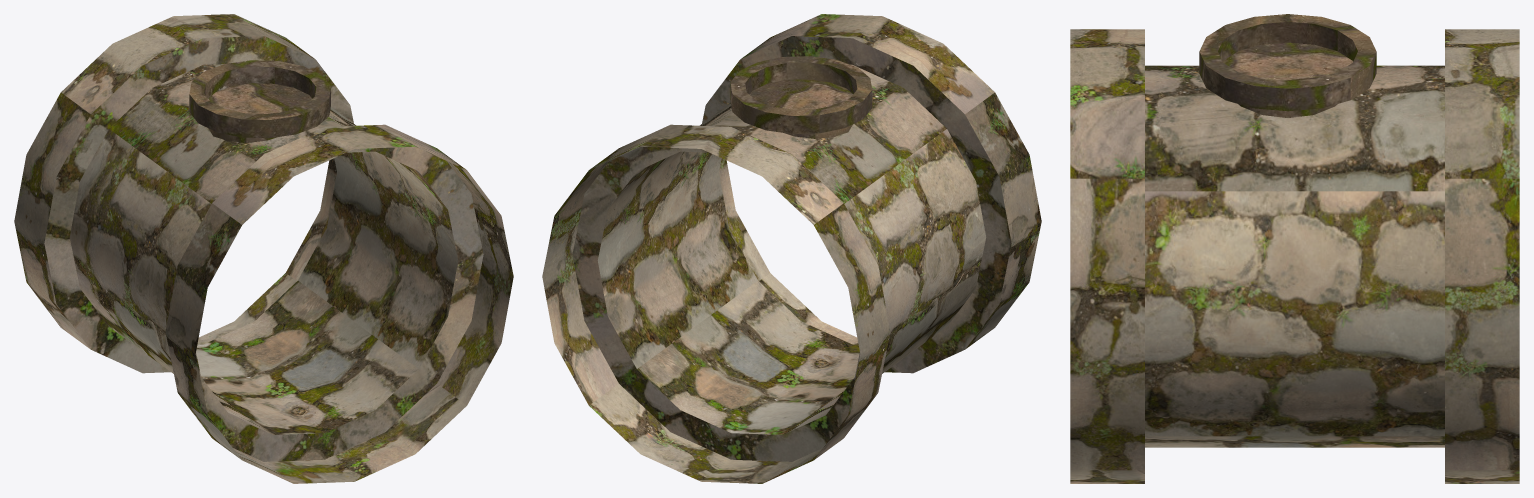
Rendered from Pipe_Vanne_V2.FBX.
3 views of the same model, side by side, from view 1: azimuth 30°, elevation 25°; view 2: azimuth 150°, elevation 25°; view 3: azimuth 270°, elevation 25° (orthographic). The views are drawn at different scales.
Parts seen in each view (by area): view 1: Object025; view 2: Object025; view 3: Object025.
Part boxes in pixels (bbox=[...]): Object025: bbox=[14, 14, 513, 483]; Object025: bbox=[542, 14, 1041, 483]; Object025: bbox=[1070, 14, 1519, 483].
Bounding box in the file's own units: 44.5 × 43.96 × 44.5.
2 materials, 2 textured.
